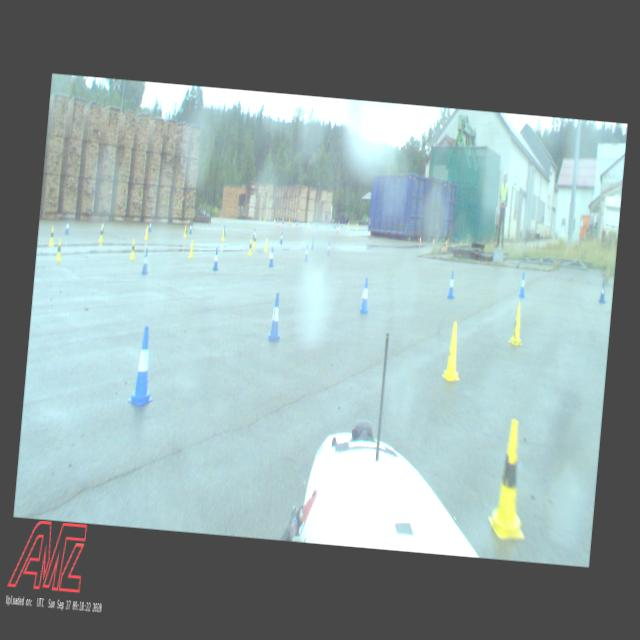blue_cone: (128, 324, 158, 406), (268, 292, 282, 341), (360, 278, 370, 312), (448, 270, 456, 298), (142, 248, 150, 275), (518, 272, 526, 297), (598, 280, 606, 303), (212, 250, 219, 270), (268, 248, 274, 266), (64, 218, 70, 234), (304, 243, 309, 261), (310, 236, 314, 250), (279, 232, 283, 244), (148, 220, 152, 232), (327, 241, 330, 255), (189, 222, 192, 234), (253, 228, 255, 239)
orange_cone: (418, 236, 422, 244), (444, 238, 447, 248), (432, 237, 434, 246), (336, 224, 338, 233), (308, 223, 310, 231), (293, 222, 295, 230), (277, 220, 279, 228), (322, 225, 324, 232), (312, 220, 314, 227), (288, 220, 290, 224), (274, 218, 275, 223)
yellow_cone: (486, 417, 534, 541), (441, 319, 464, 382), (507, 297, 526, 346), (54, 237, 62, 262), (129, 238, 136, 259), (48, 226, 55, 246), (98, 224, 105, 242), (188, 239, 194, 258), (248, 238, 252, 255), (144, 223, 148, 240), (183, 225, 188, 238), (264, 237, 268, 252), (221, 228, 225, 242), (253, 234, 256, 247)
